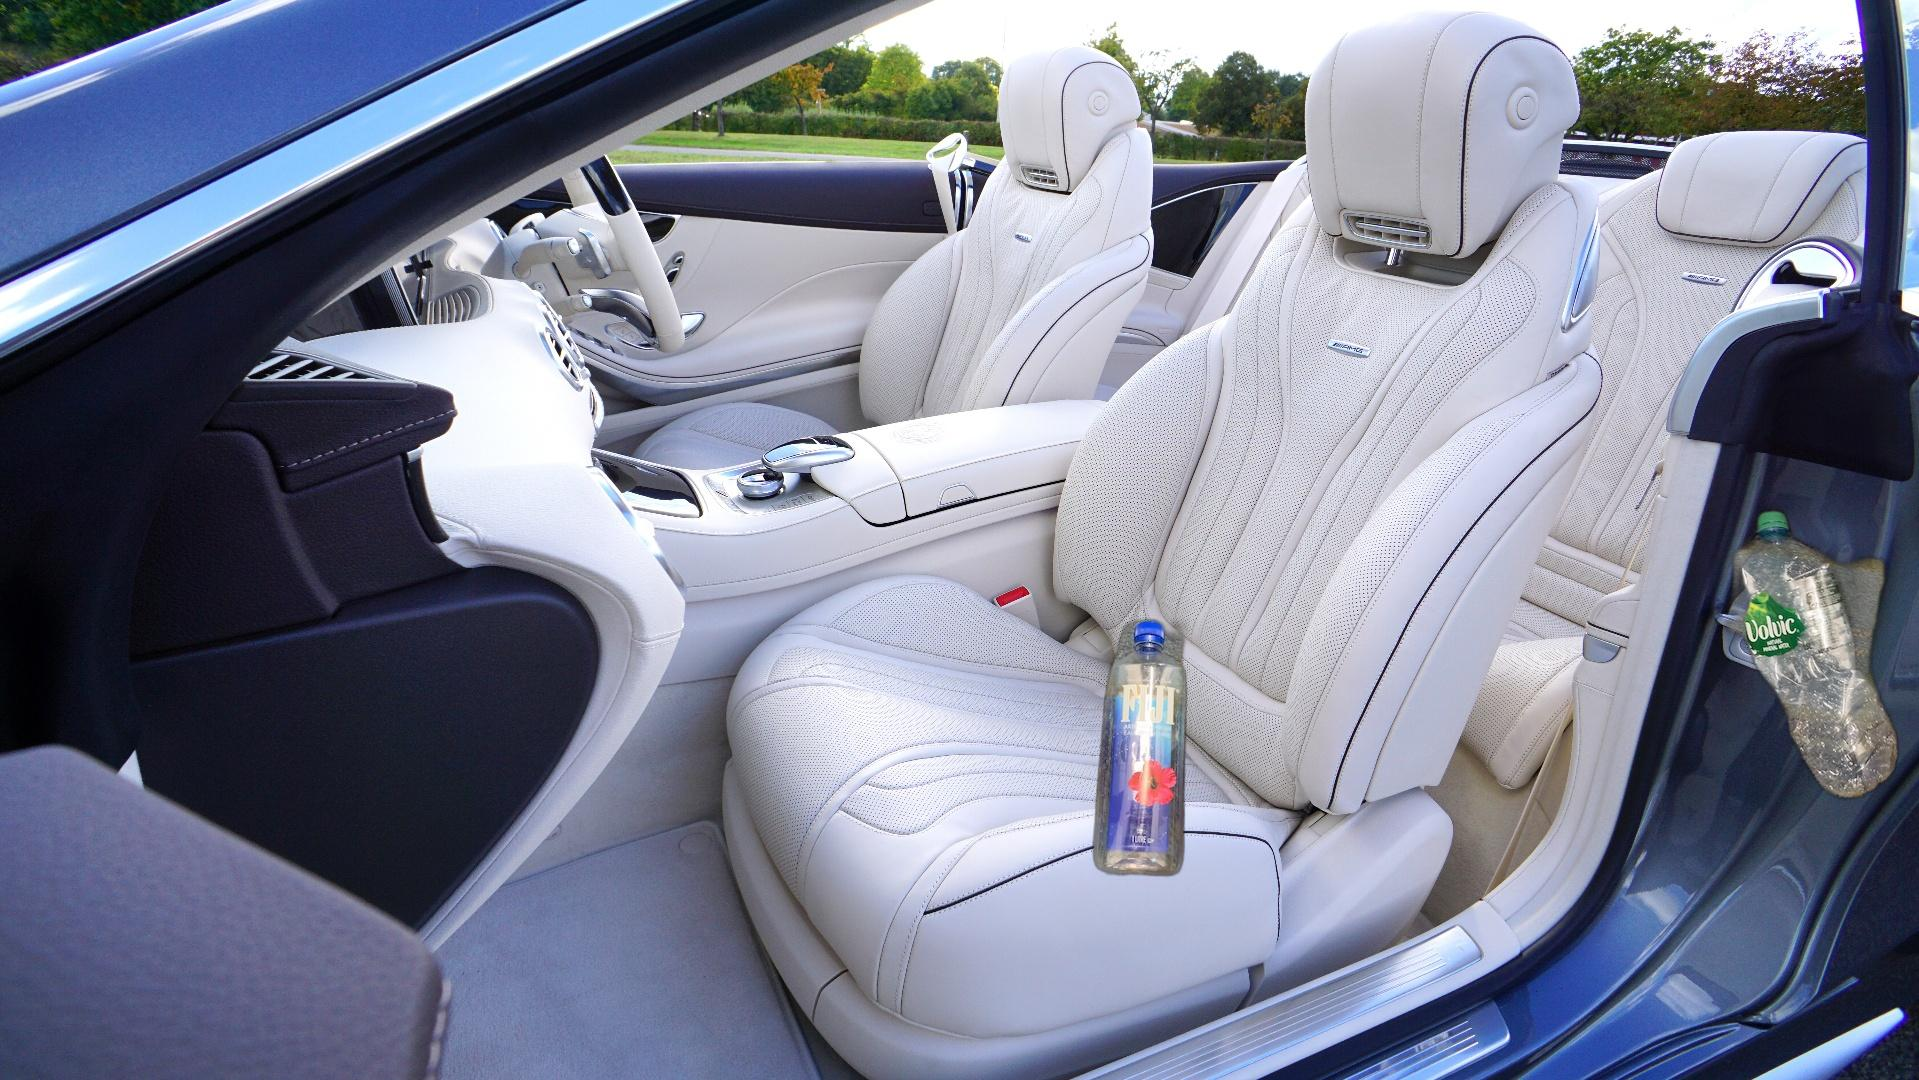plastic-bottles: (1717, 502, 1903, 804), (1089, 613, 1193, 882)
